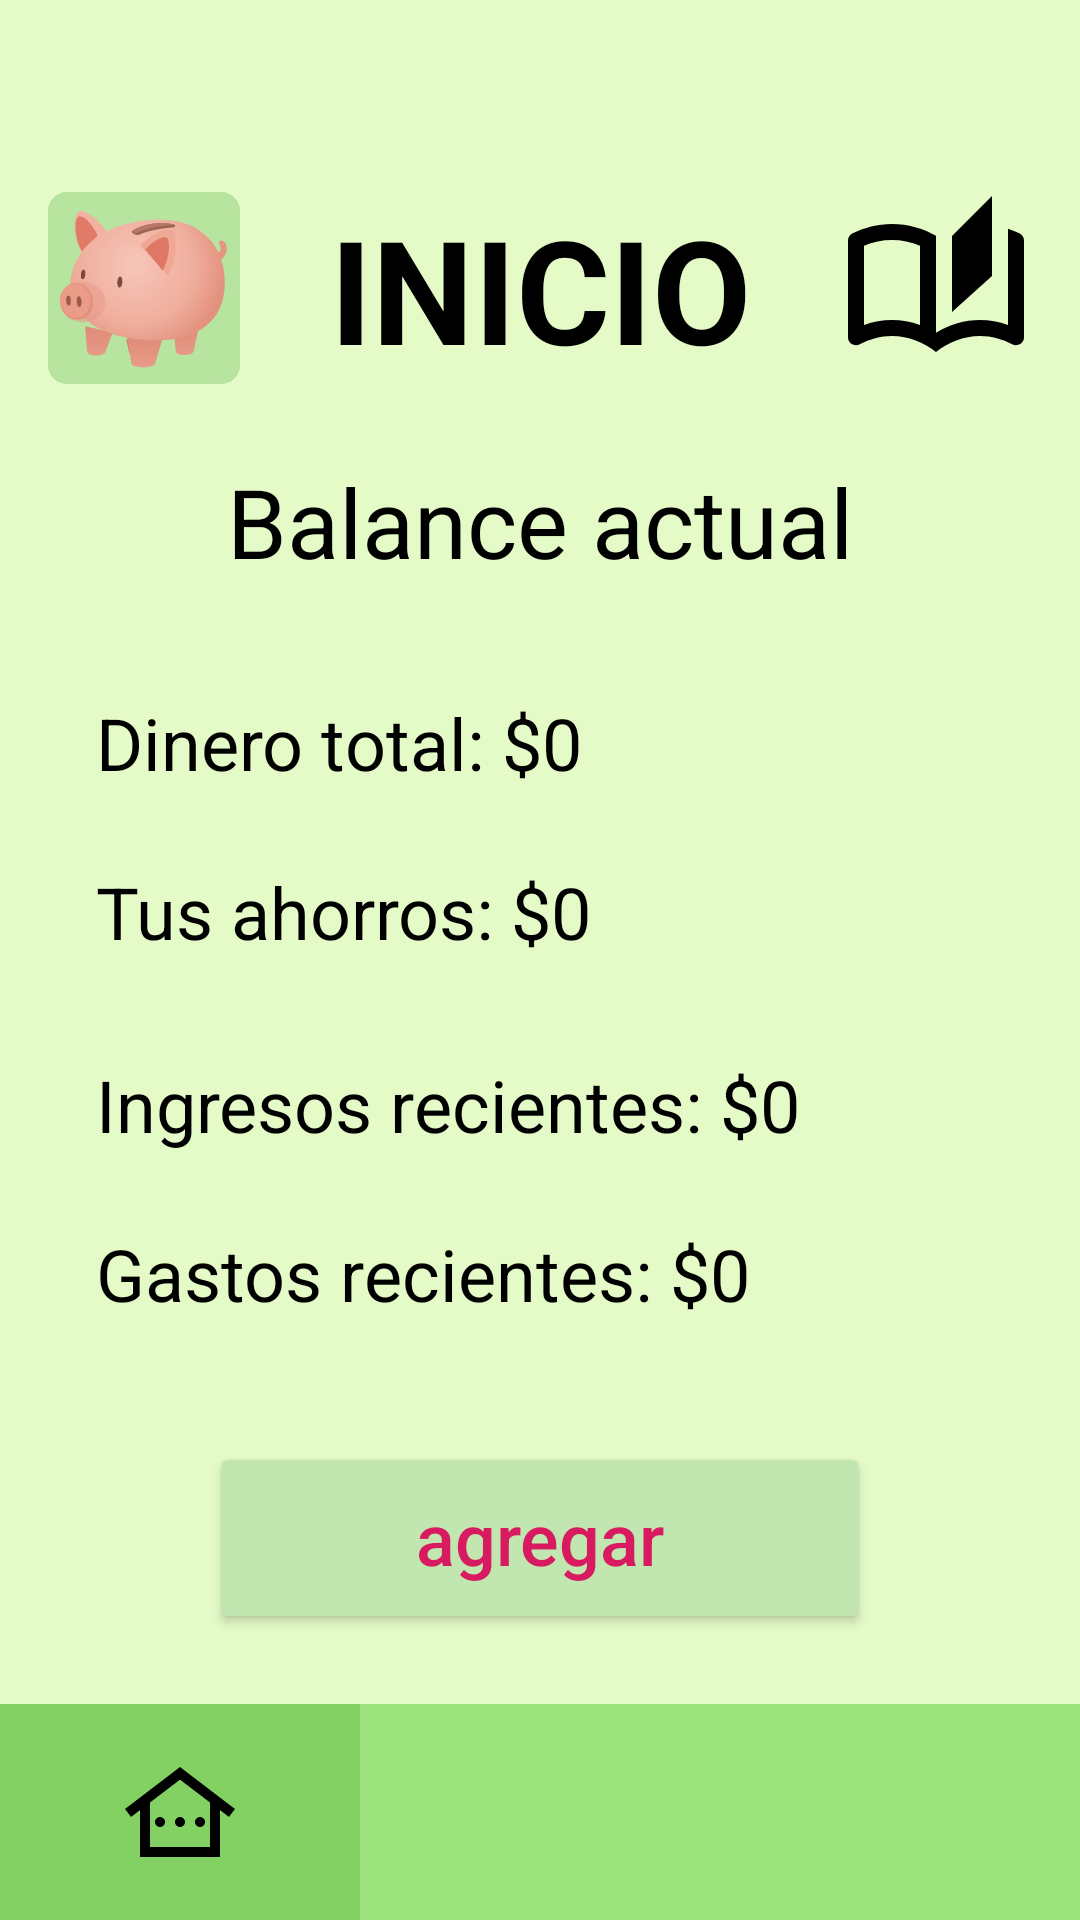

Point at icon controls on the screen. Image size 1080px×1920px, points as point (x, y).
Inicio: point (180, 1812)
libreta: point (936, 274)
